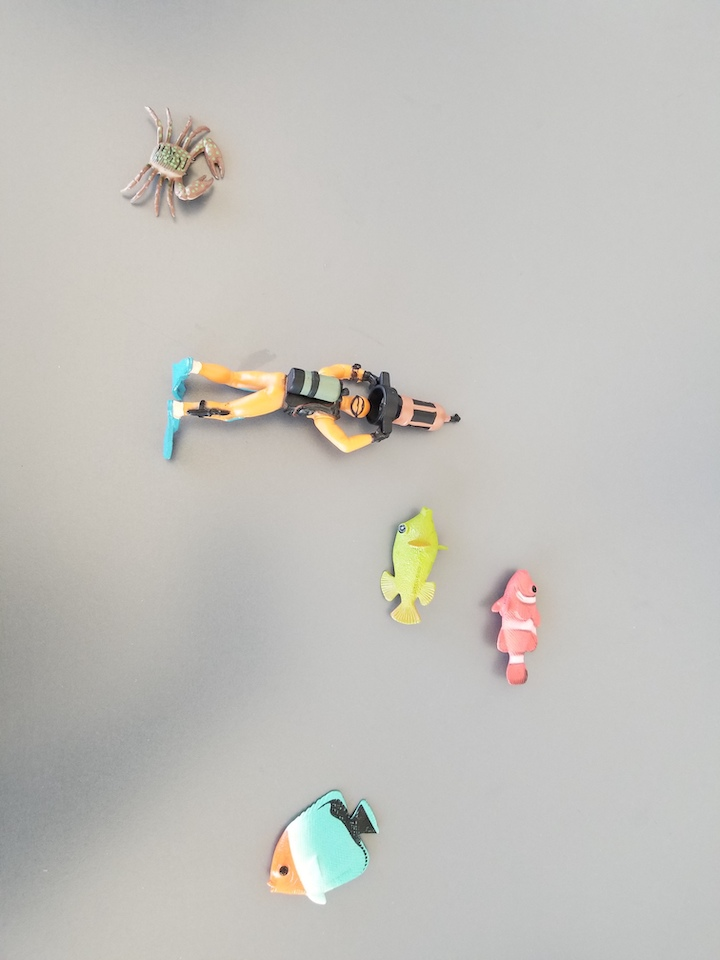crab: (116, 105, 227, 226)
diver: (162, 339, 469, 466)
fish: (264, 788, 379, 907), (380, 506, 443, 627), (489, 570, 545, 685)
